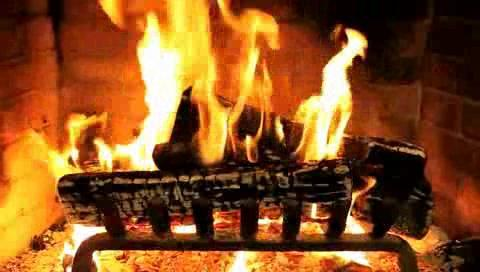fire: (117, 6, 370, 175)
